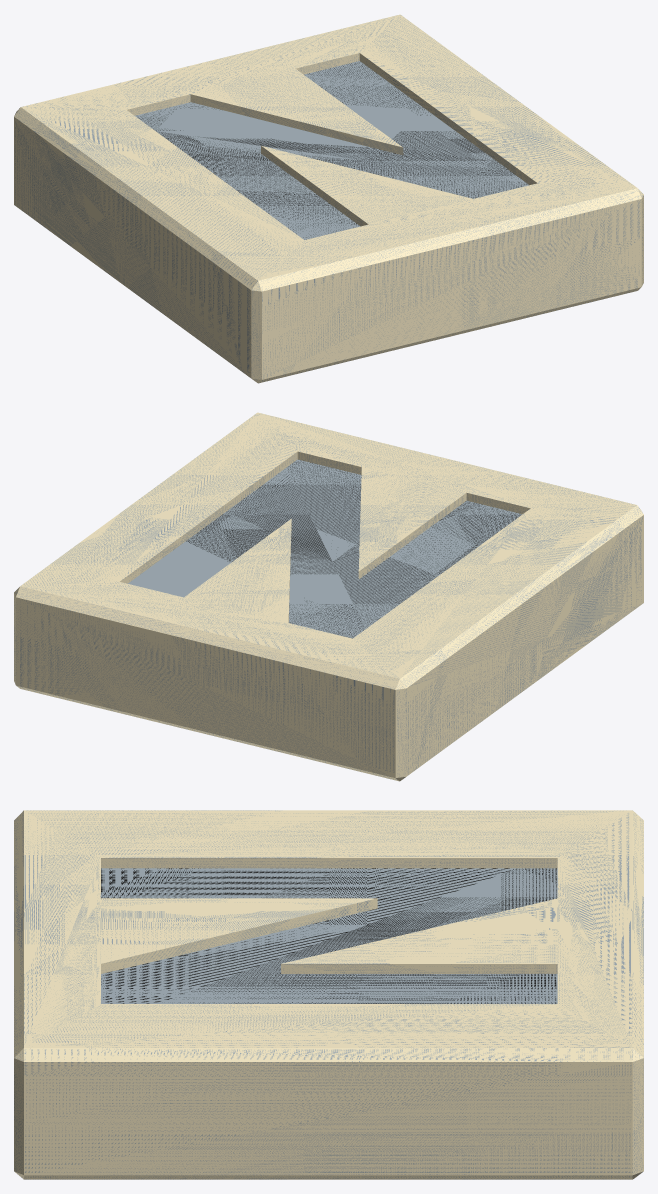
Rendered from Boardgame_Anagram_Tile_N.fbx.
The picture shows the model from 3 angles, top to bottom: view 1: azimuth 30°, elevation 25°; view 2: azimuth 150°, elevation 25°; view 3: azimuth 270°, elevation 25°; orthographic projection. The views are drawn at different scales.
Visible parts, largest first — view 1: Model; view 2: Model; view 3: Model.
Boxes of the visible parts, left/top/right/bottom form: Model: left=14, top=14, right=643, bottom=383; Model: left=14, top=412, right=643, bottom=781; Model: left=14, top=810, right=643, bottom=1179.
Size of the model in its own units: 195 by 48.83 by 212.
